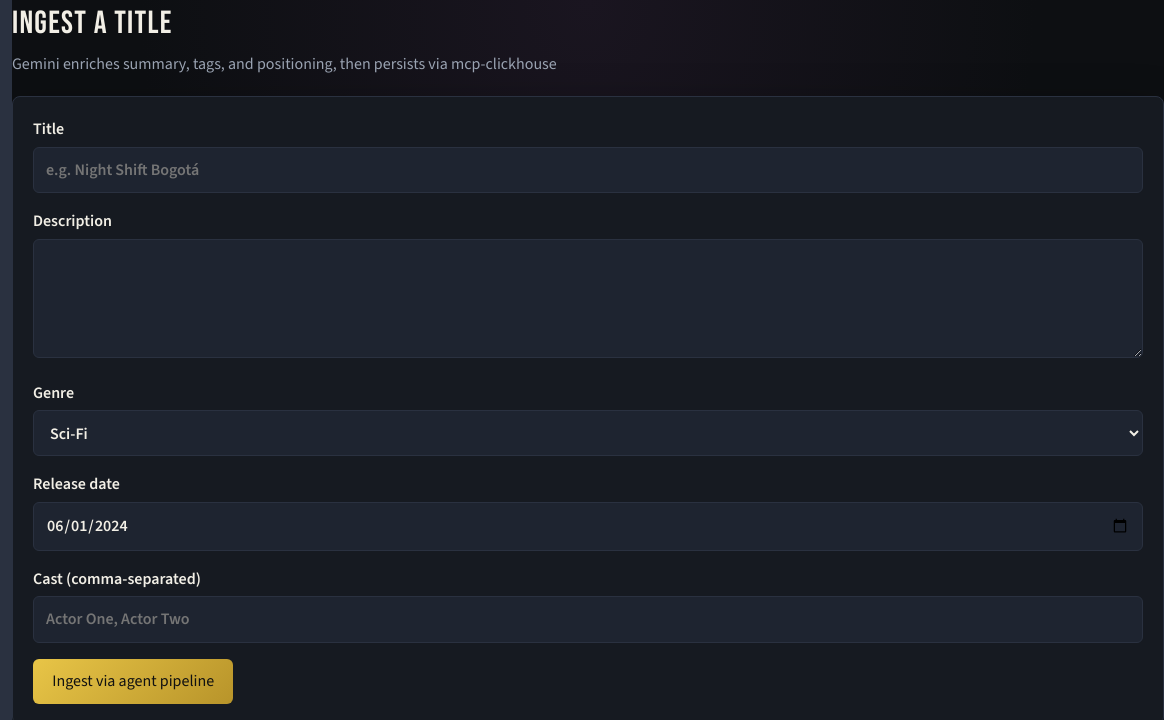
Scenario: pages › ingests a title and surfaces API errors
Type "New Title" into the field labelled "Title" at [588, 170], box [33,147,1143,193]
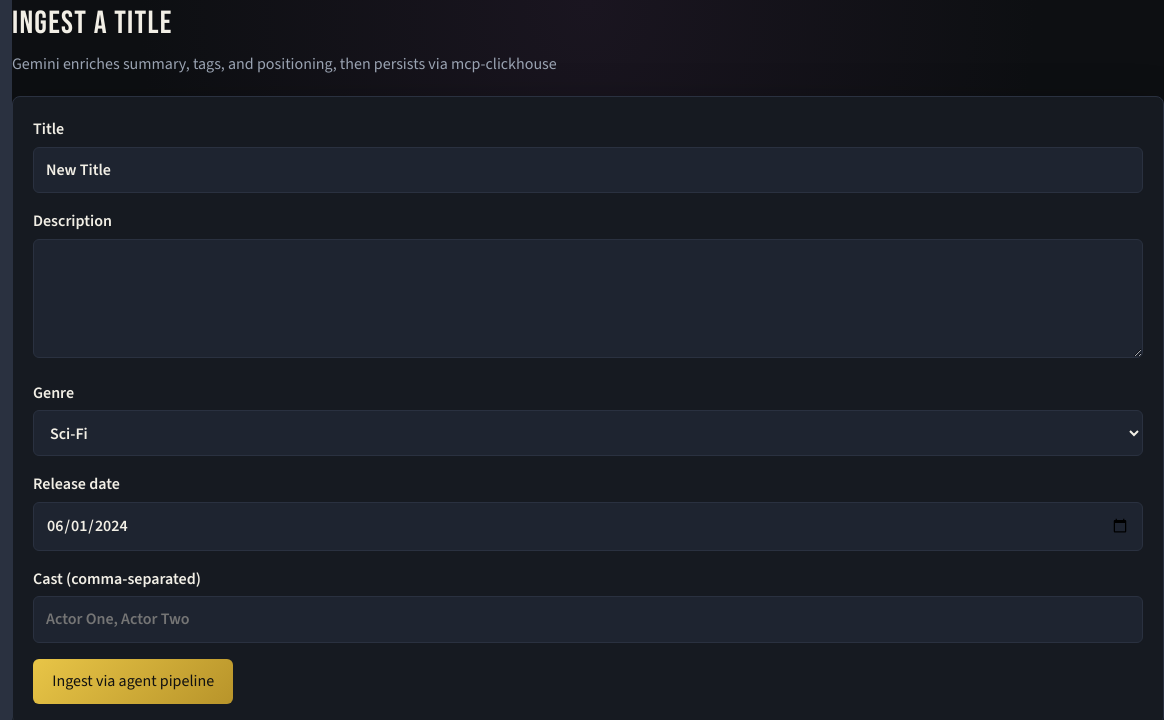
Type "A description" into the text box labelled "Description" at [588, 298], box [33,239,1143,358]
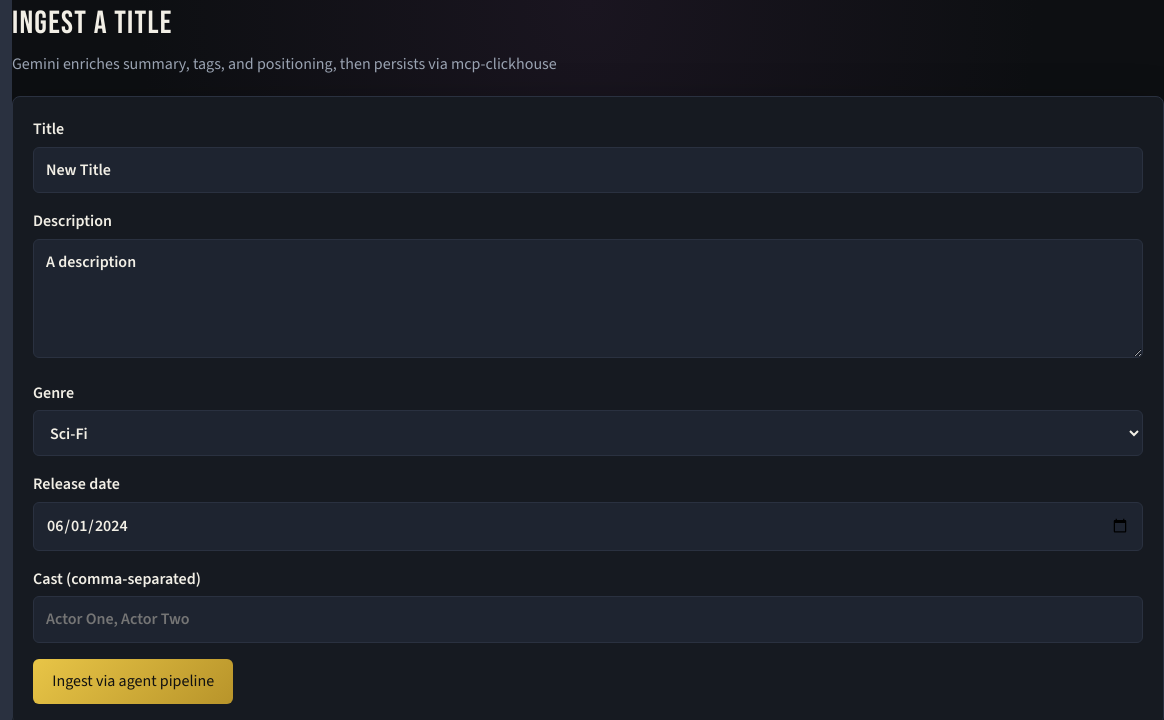
Type "Ada, Grace" into the field labelled "Cast (comma-separated)" at [588, 620], box [33,596,1143,643]
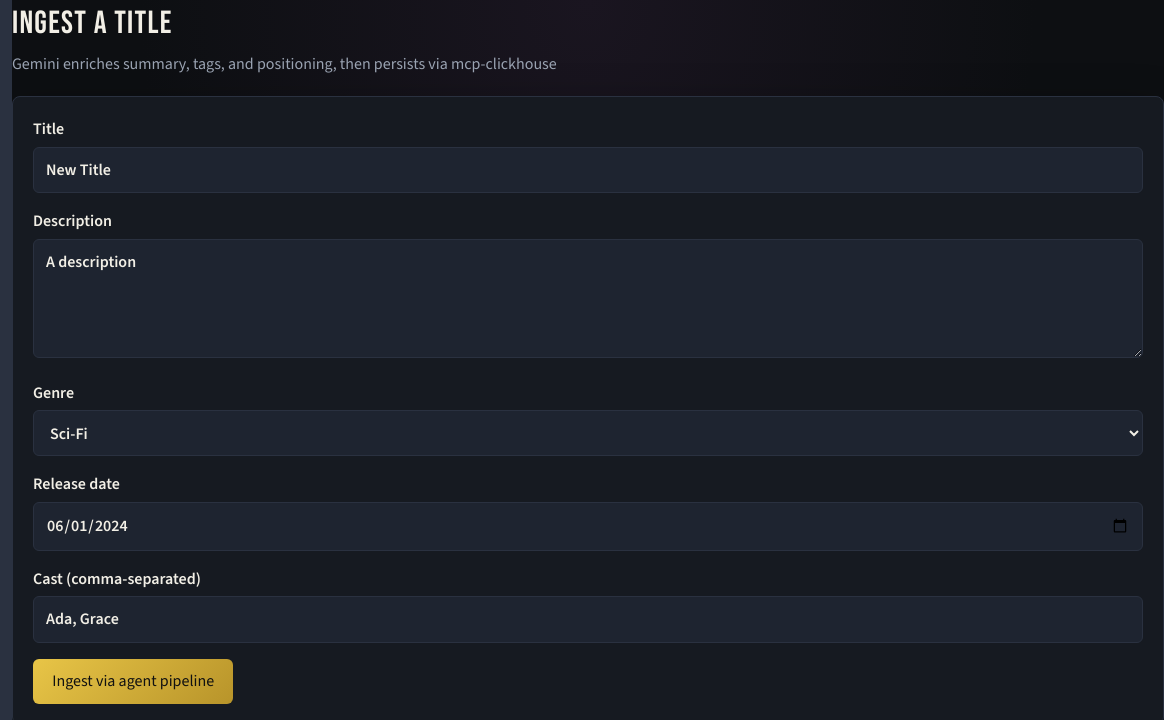
Select "Drama" in the dropdown labelled "Genre" at [588, 433], box [33,410,1143,456]
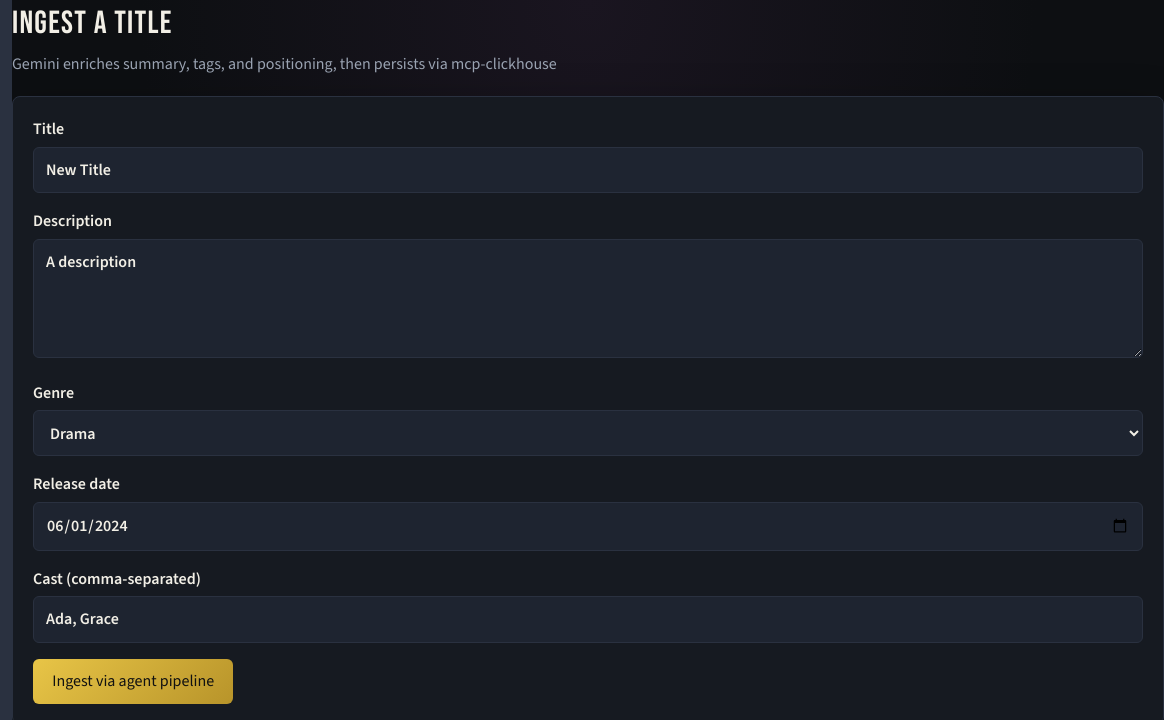
Type "2024-07-01" into the date field labelled "Release date" at [588, 526], box [33,502,1143,550]
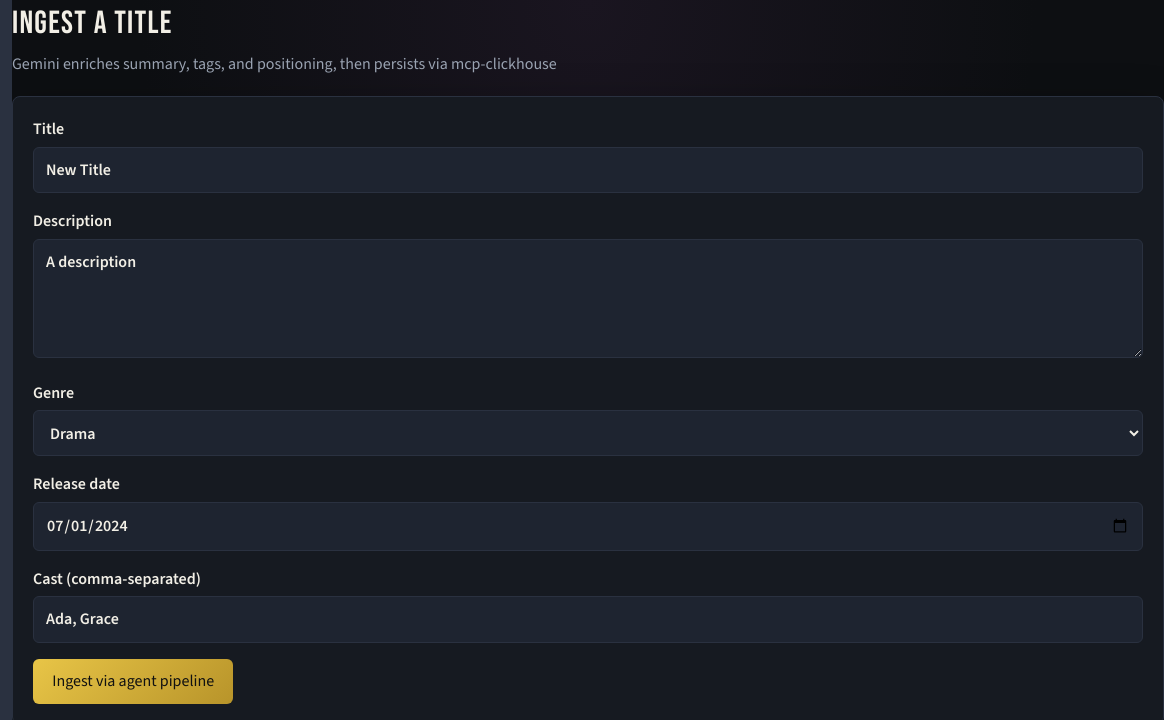
Submit the form "Ingest via agent"
Submit the form "Ingest via agent"
(page scrolled)
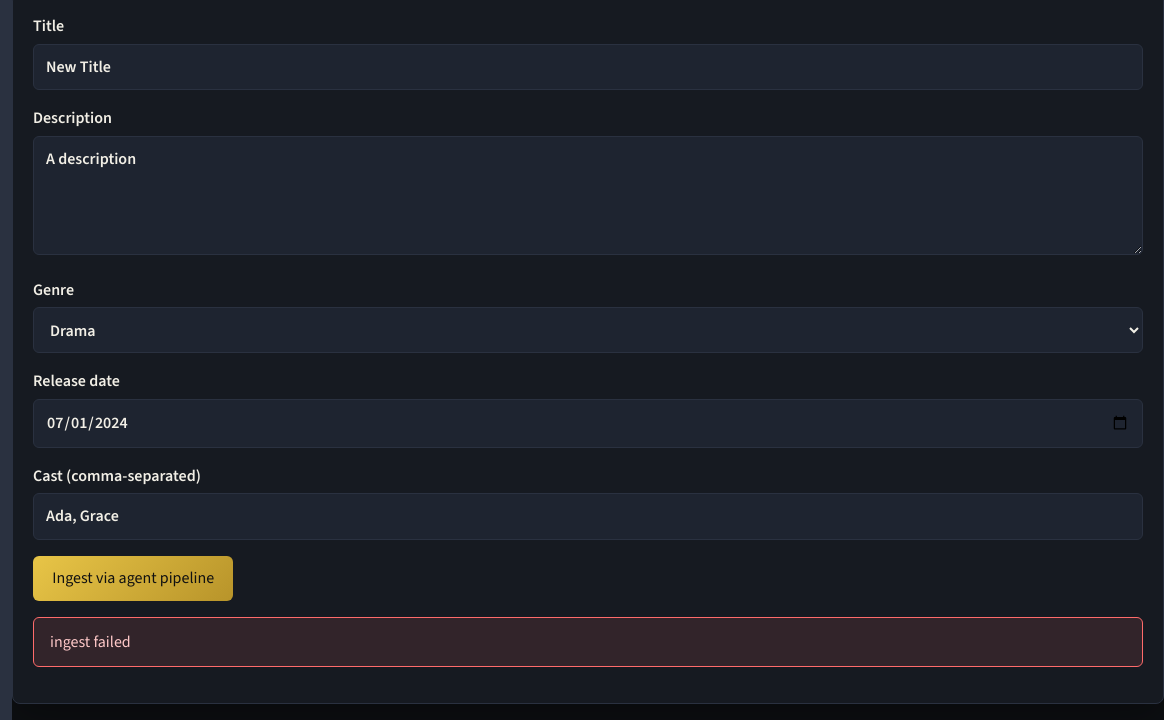
Now the text "ingest failed" is shown, box [33,617,1143,667]
